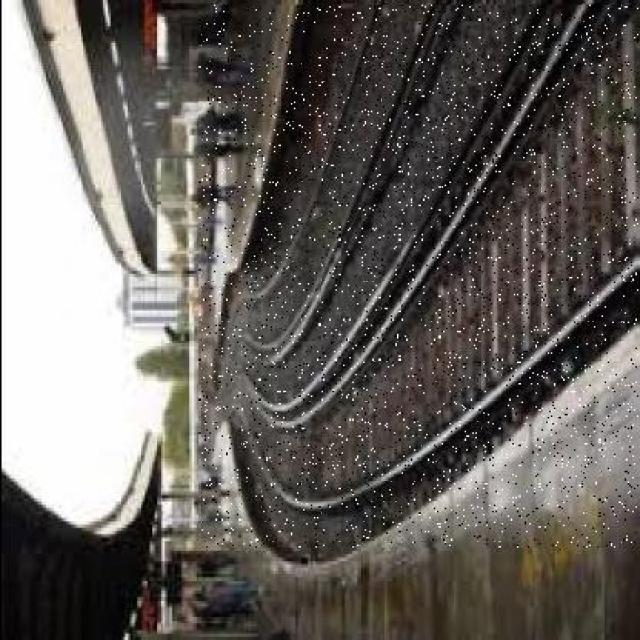rail: (199, 6, 638, 549)
